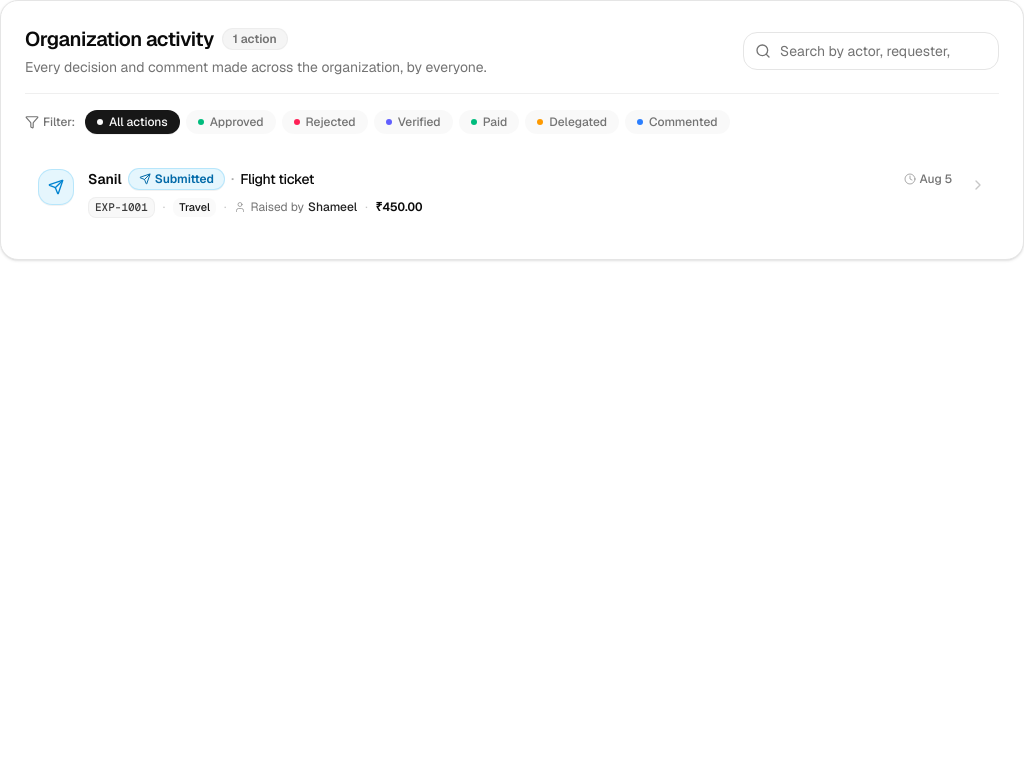
Test: OrganizationActivity delegation wiring › shows the Delegate action for a Superadmin viewer opened from organization activity
Click the text "Flight ticket" at (277, 179), box [240,169,314,189]
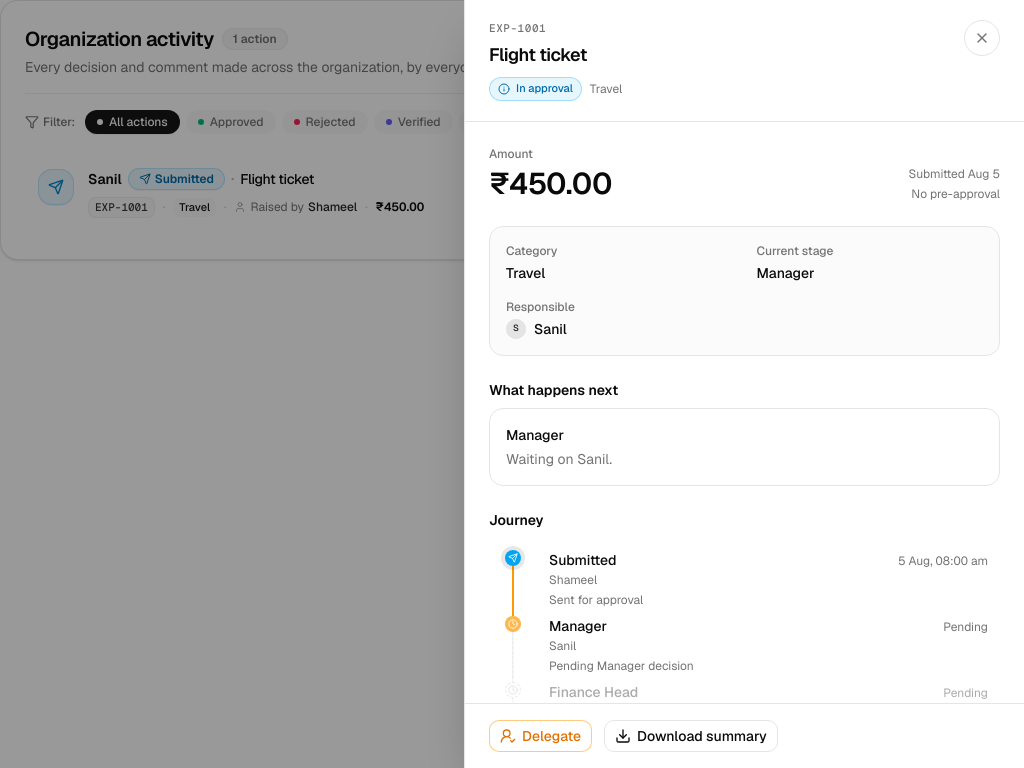
Now the button "Delegate" is shown, box [489,720,592,752]
